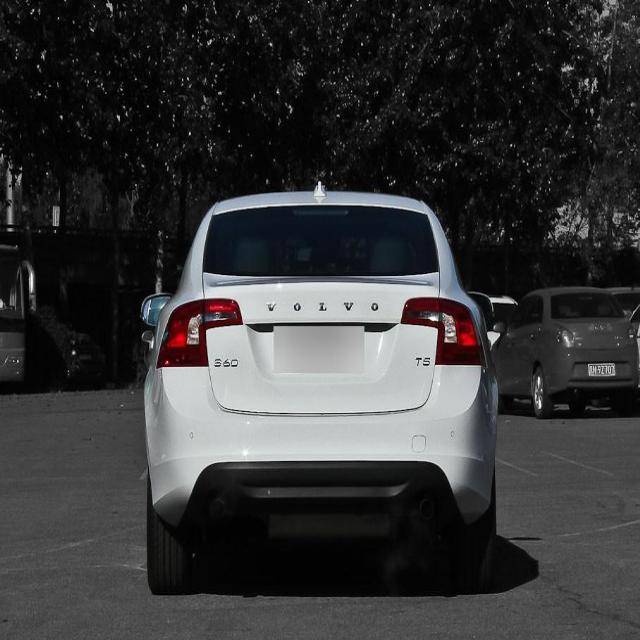back_glass: (202, 202, 440, 282)
back_left_side_light: (156, 291, 244, 369)
back_right_side_light: (399, 297, 488, 369)
front_left_side_mirror: (141, 290, 176, 328)
rear_bumper: (142, 362, 496, 530)
